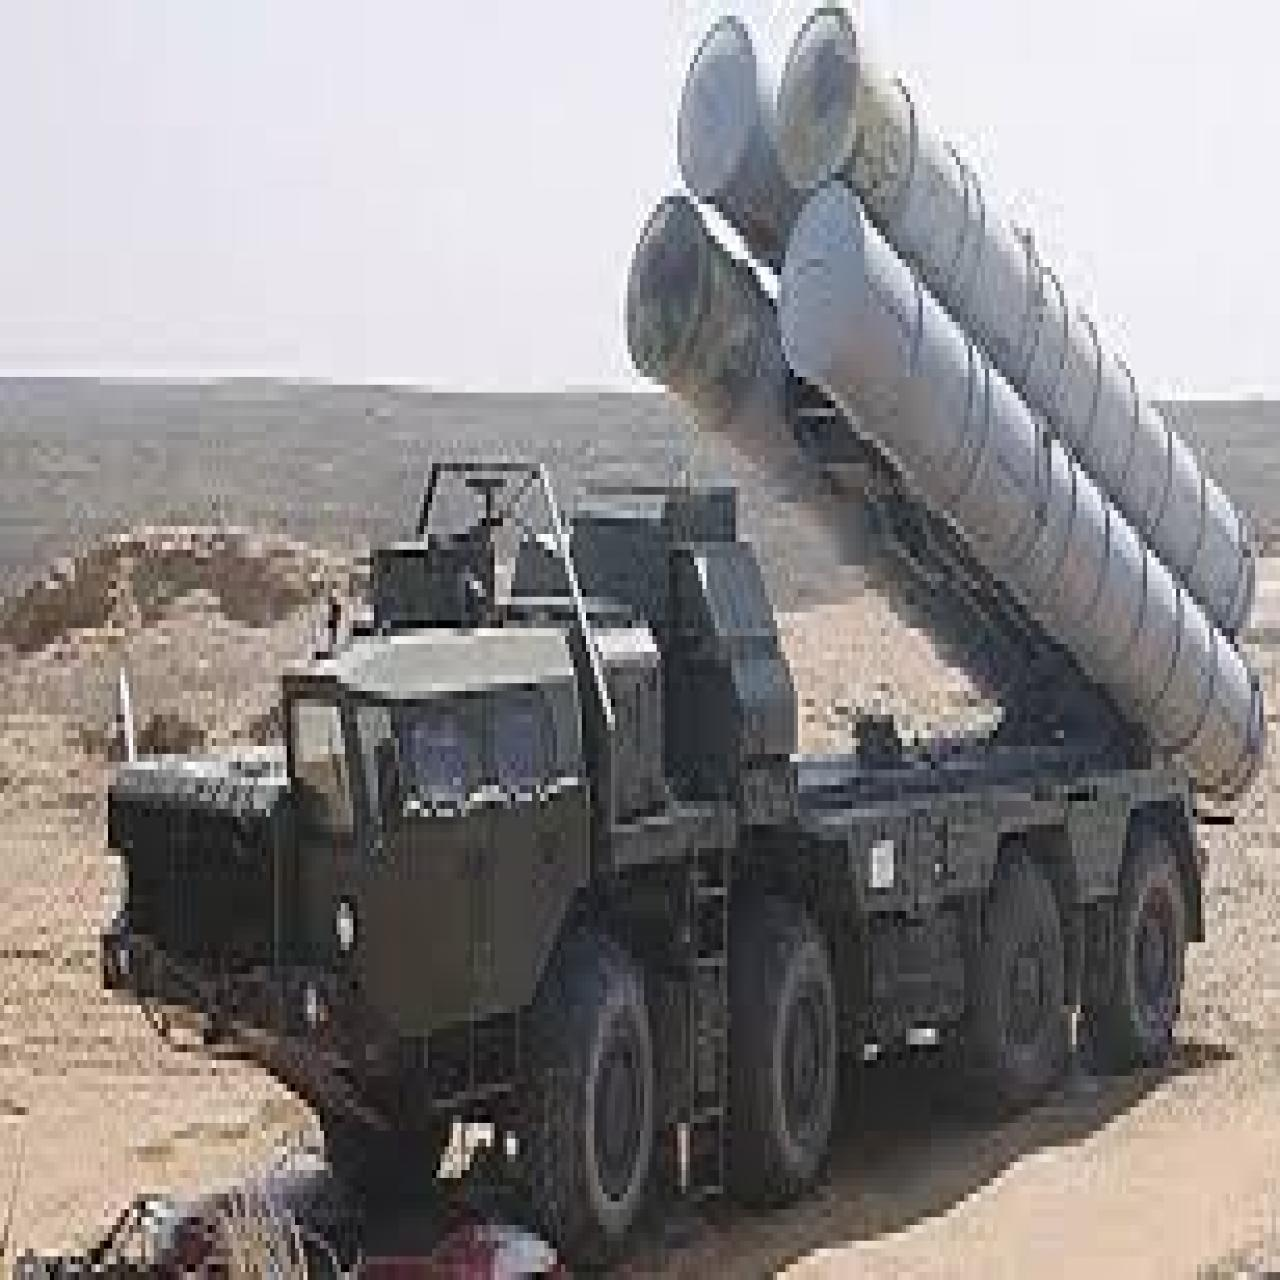MIL_Veh: (114, 16, 1262, 1267)
